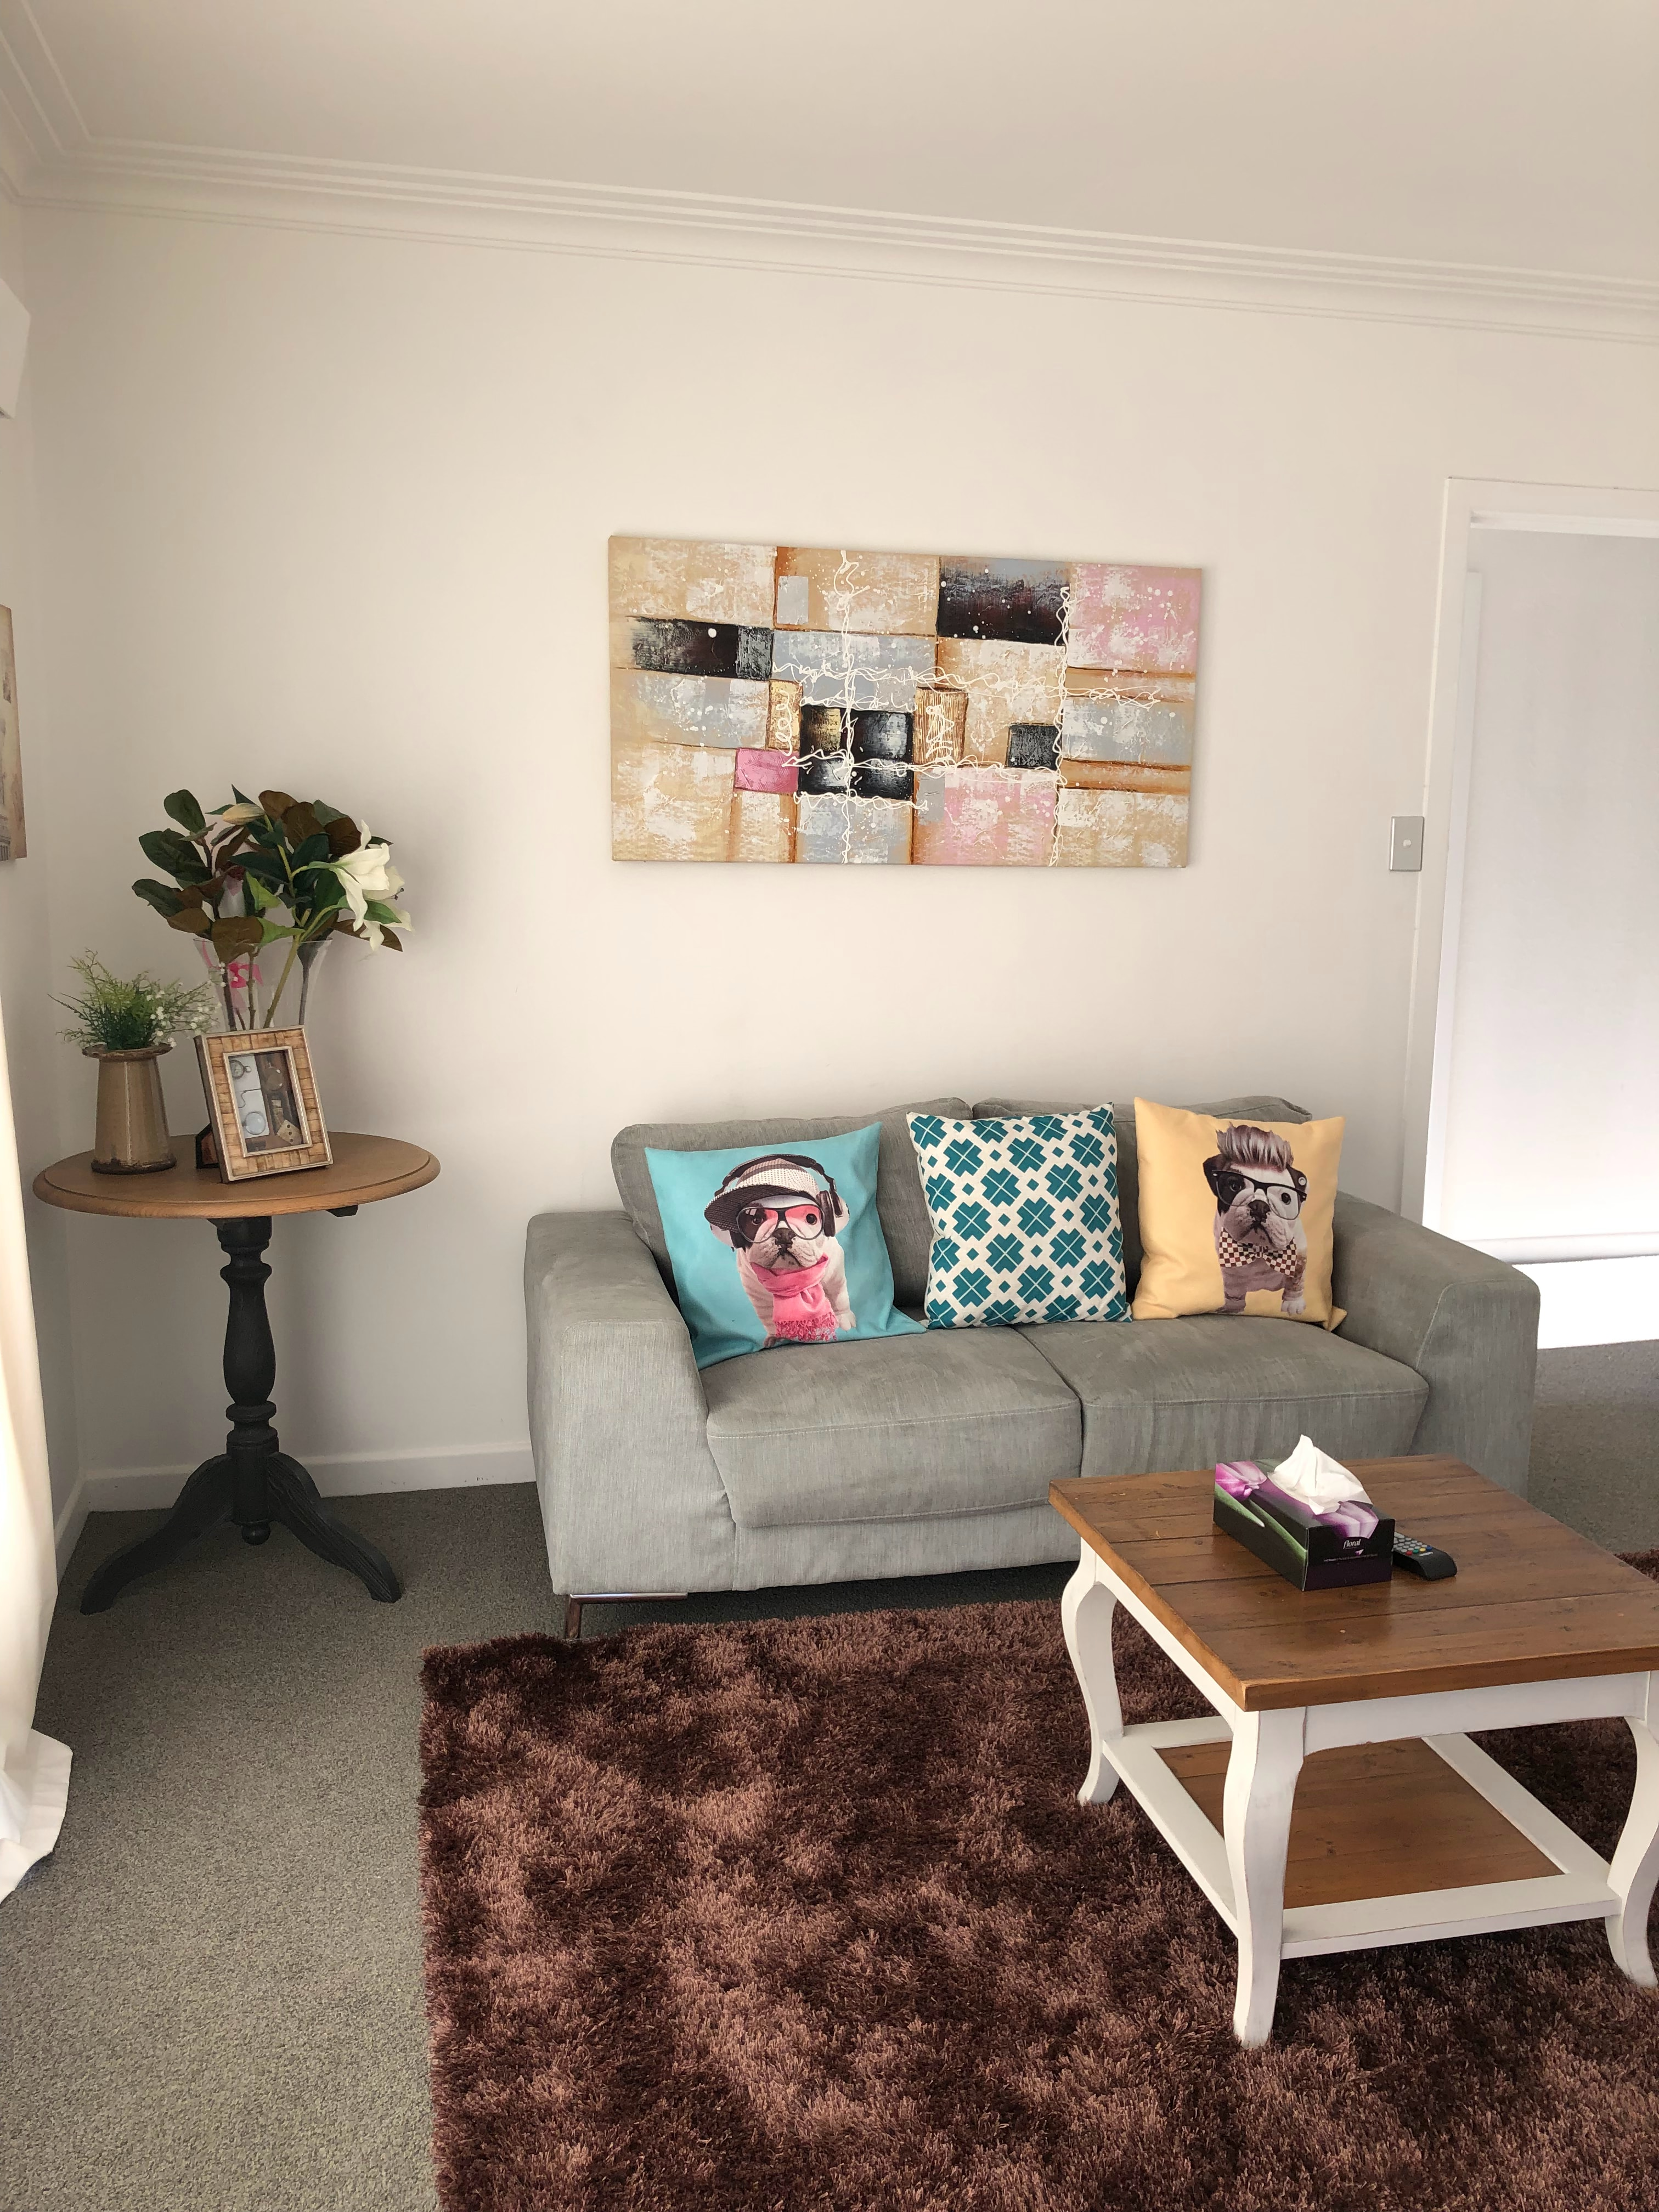Painting: (580, 529, 1220, 883)
Sofa: (491, 1078, 1556, 1594)
Table: (1040, 1460, 1659, 2073)
